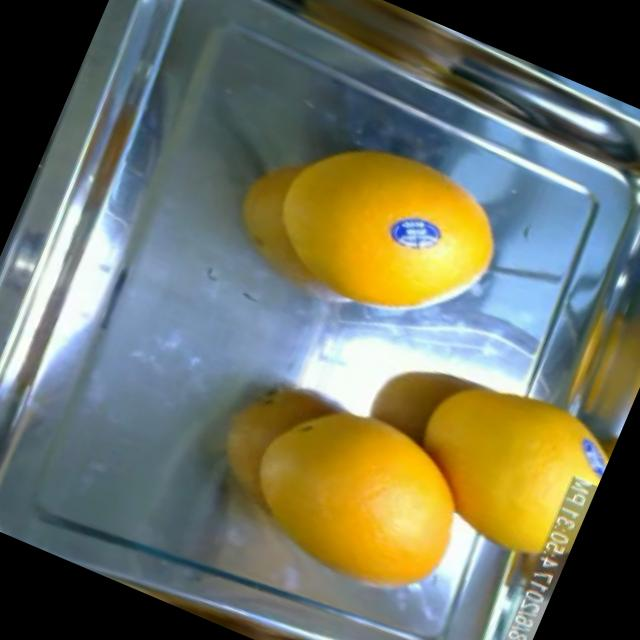Fruit: (207, 104, 436, 328)
